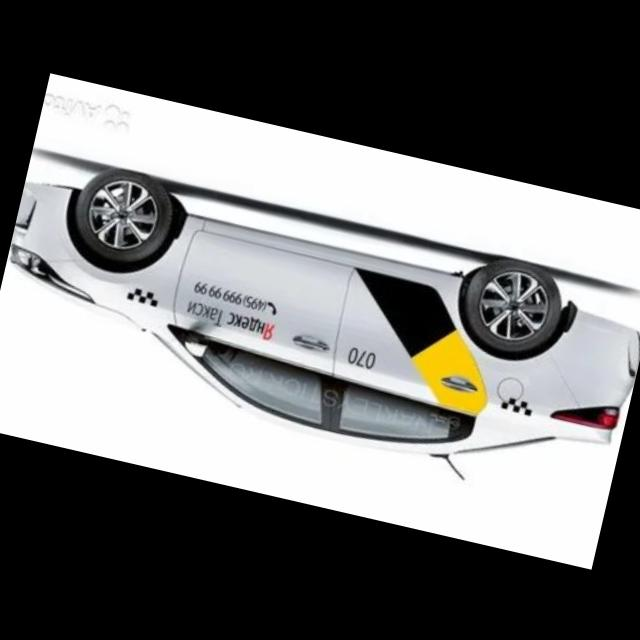taxi: (1, 147, 640, 513)
